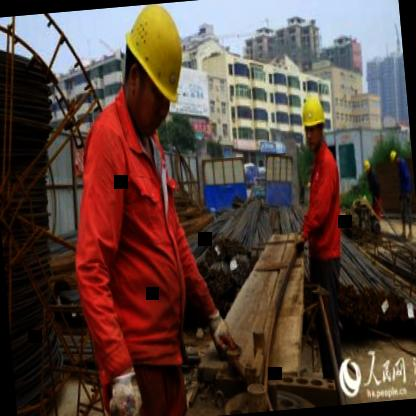helmet: (108, 0, 202, 142), (296, 86, 331, 158), (386, 146, 402, 169), (362, 153, 374, 177)
